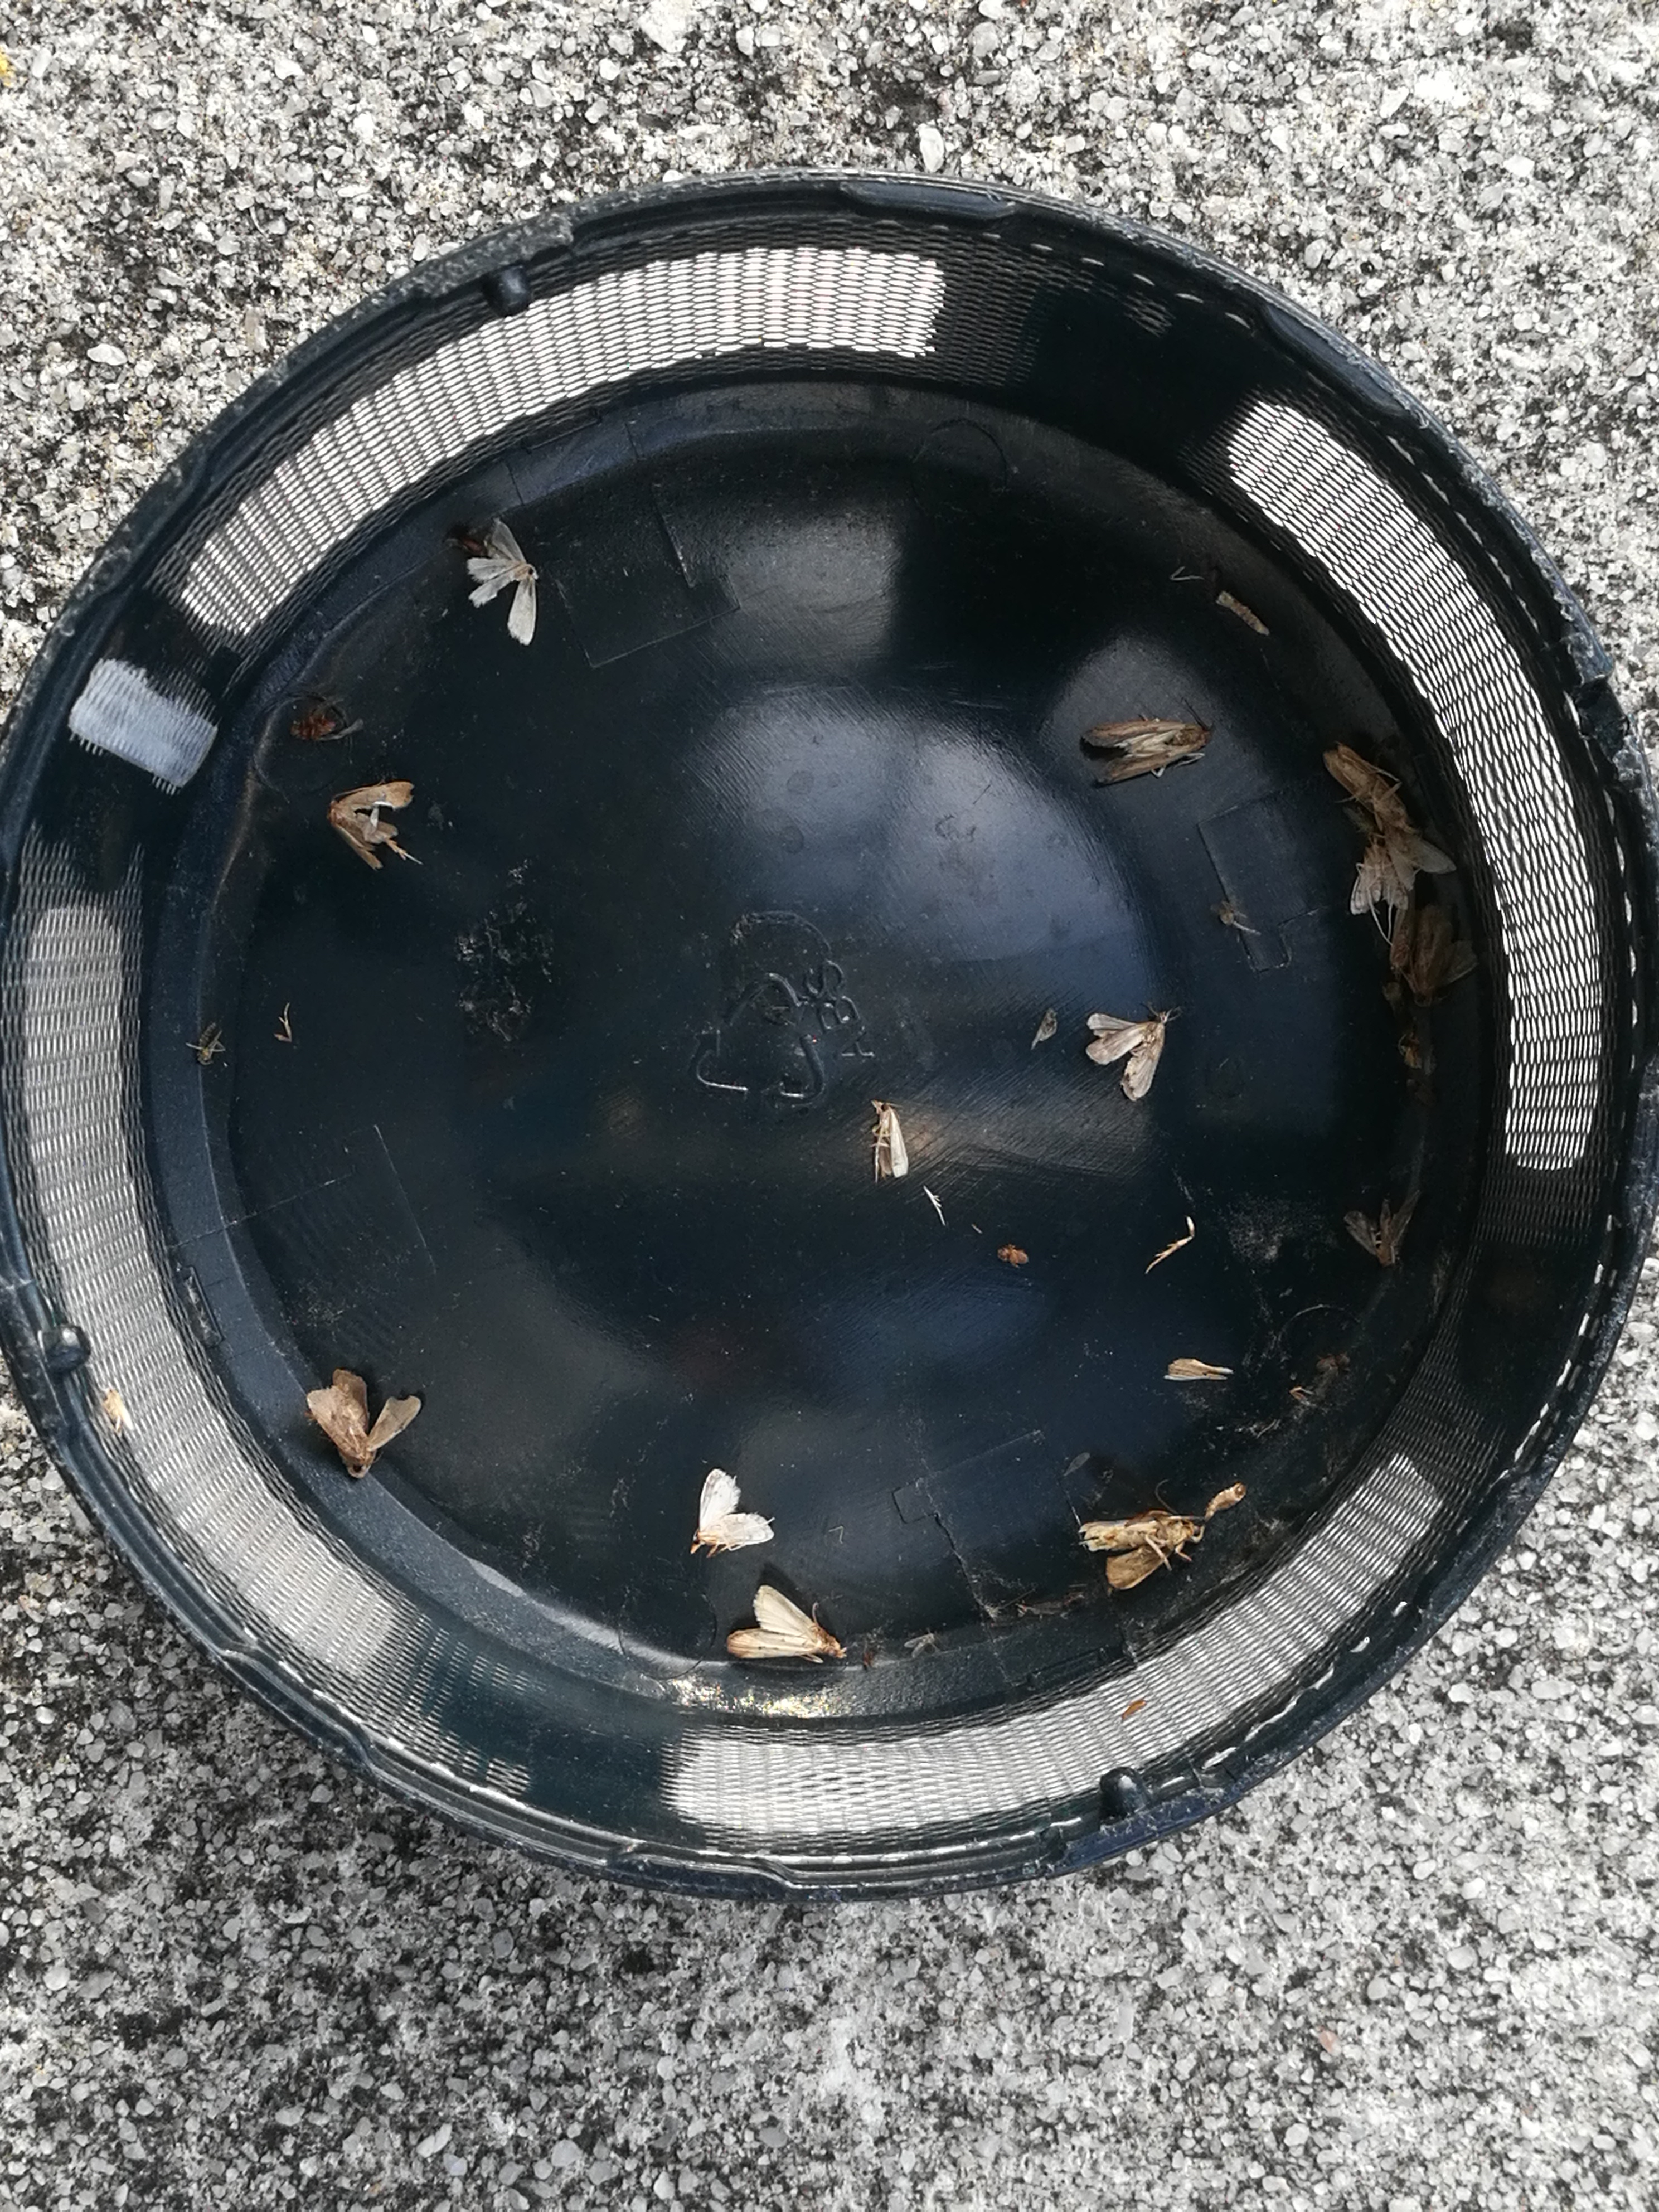mosquito: (1326, 744, 1408, 829), (1389, 906, 1413, 974)
moth: (307, 1371, 422, 1480), (1077, 1519, 1199, 1588), (727, 1587, 845, 1658), (471, 519, 537, 644), (1086, 723, 1211, 786), (328, 782, 411, 867), (688, 1470, 770, 1552), (1086, 1017, 1168, 1099), (1417, 904, 1473, 1005), (1347, 1195, 1417, 1264), (1382, 833, 1457, 890), (1349, 843, 1406, 914), (873, 1099, 906, 1183)
